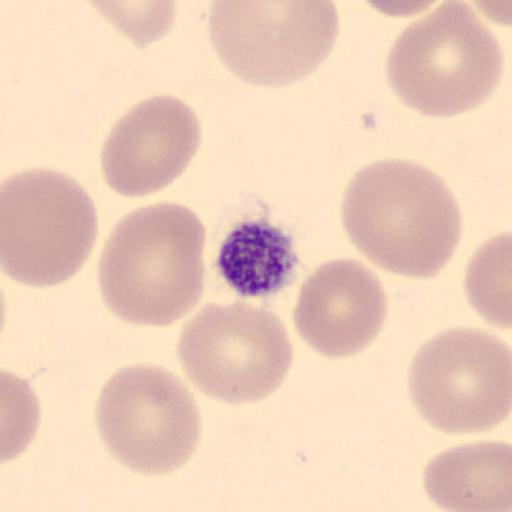Platelet: (214, 215, 302, 300)
RBC: (340, 155, 464, 282), (96, 199, 207, 330), (383, 2, 506, 118), (174, 299, 295, 408), (93, 360, 204, 478), (2, 165, 100, 291), (204, 0, 341, 90), (406, 324, 511, 438), (98, 92, 204, 200), (292, 256, 389, 360), (421, 438, 512, 512), (463, 229, 512, 332), (79, 0, 179, 49), (2, 366, 42, 465), (357, 0, 442, 20), (462, 0, 512, 28)
